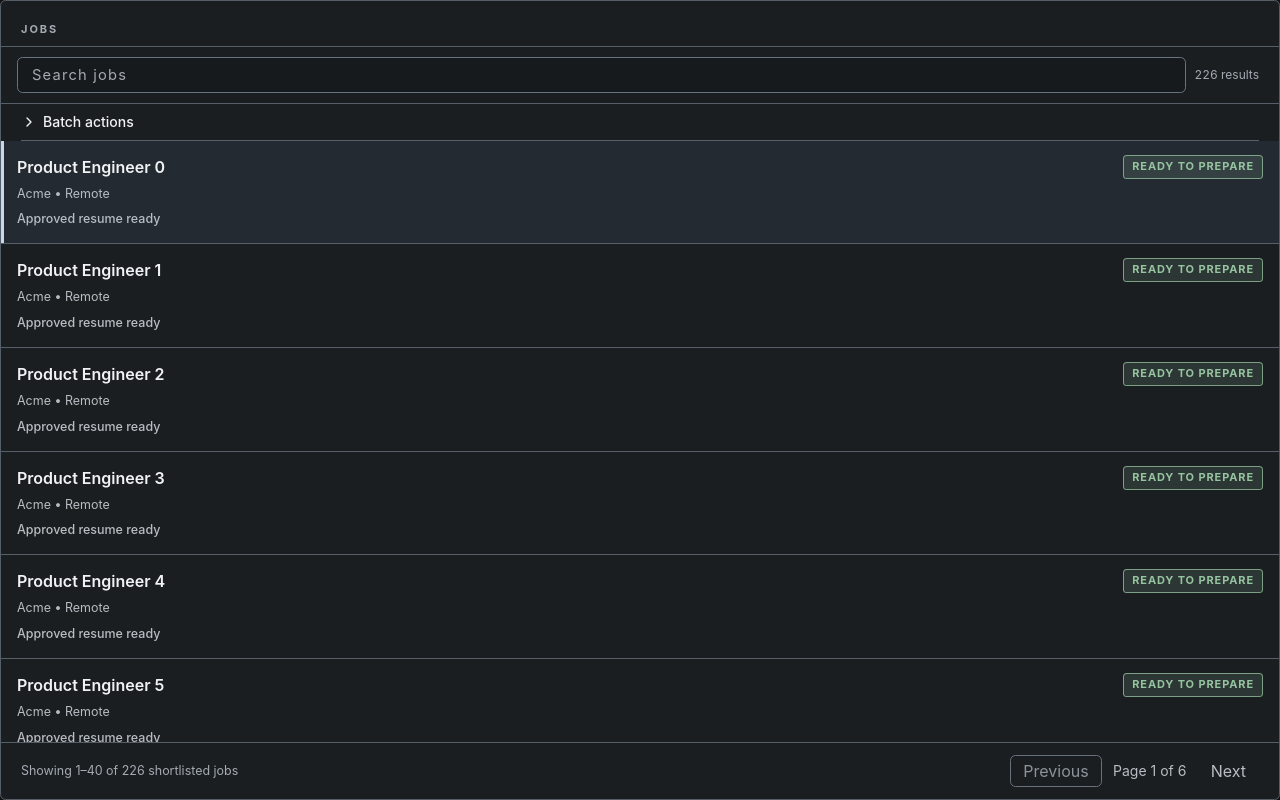
ReviewQueueListPanel › keeps a large shortlist bounded to one page and preserves keyboard-sized pages
Check: the navigation bar named "shortlisted jobs pagination" is shown, box x1=1 y1=742 x2=1279 y2=799
Check: the text "Showing 1–40 of 226 shortlisted jobs" is shown, box x1=21 y1=762 x2=238 y2=780
Click the button with aria-label "Next page": [1228, 771] box x1=1198 y1=755 x2=1259 y2=787
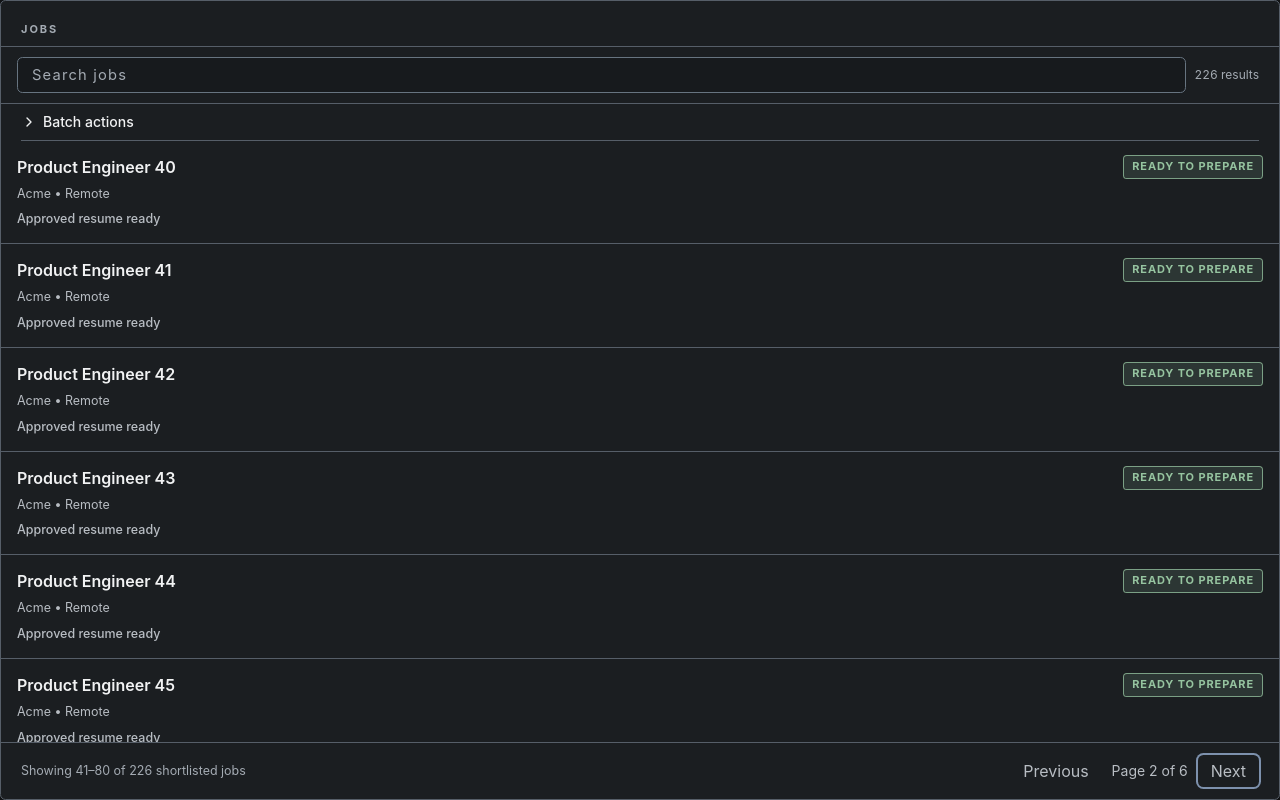
Check: the button "Product Engineer 0" is gone
Check: the text "Product Engineer 40" is shown, box x1=17 y1=154 x2=176 y2=178
